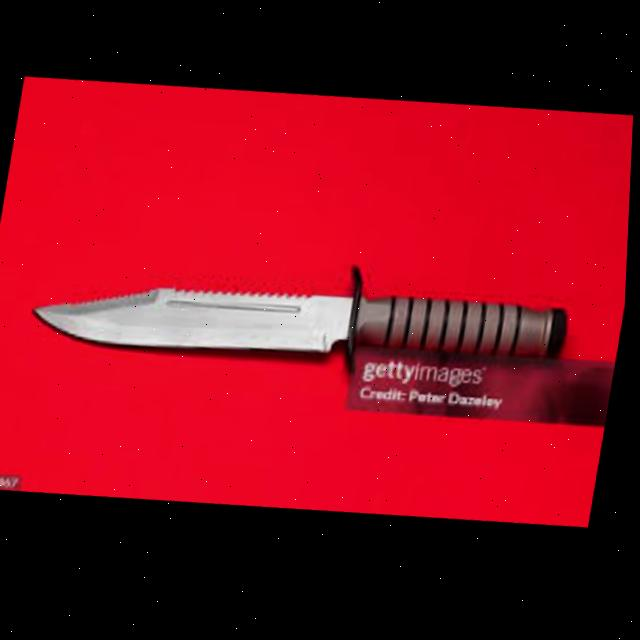knife: (27, 220, 580, 410)
